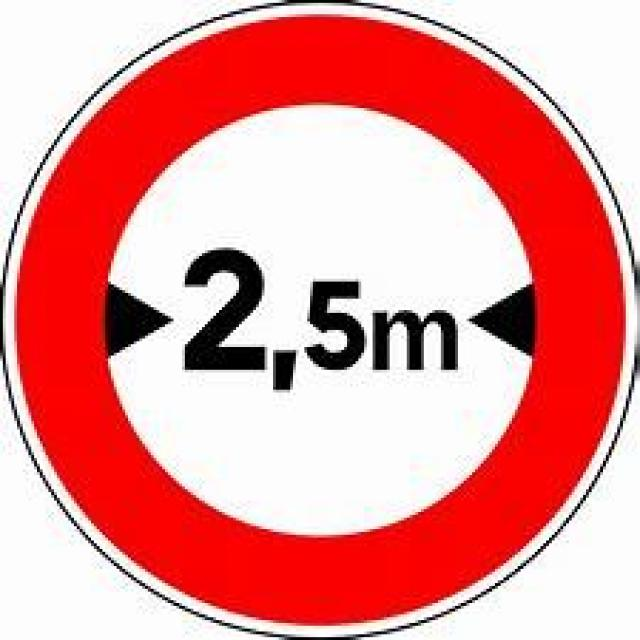do_not_u_turn: (14, 11, 623, 620)
